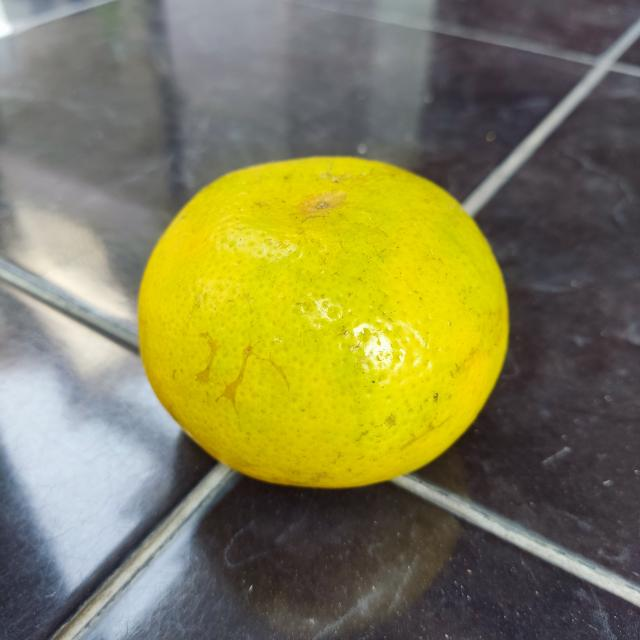orange: (133, 155, 510, 492)
